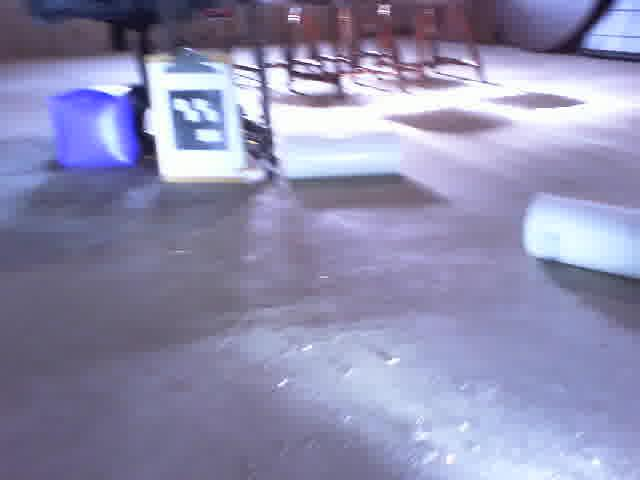coral: (517, 186, 640, 284), (274, 114, 405, 186)
